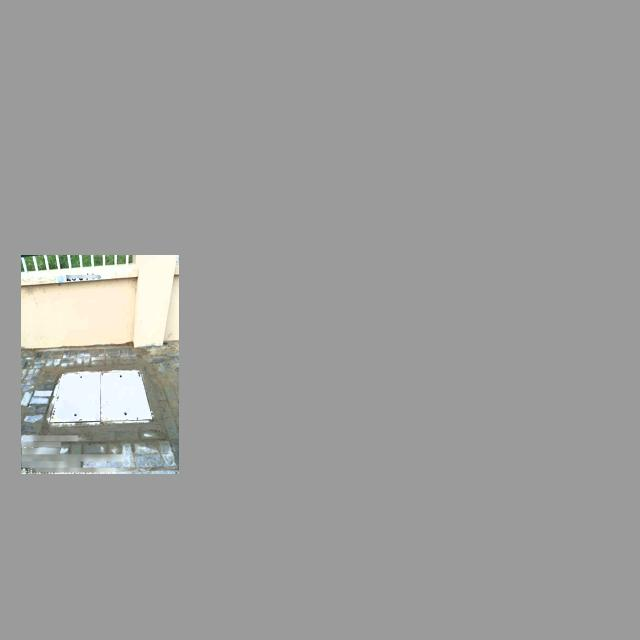good: (45, 369, 153, 424)
